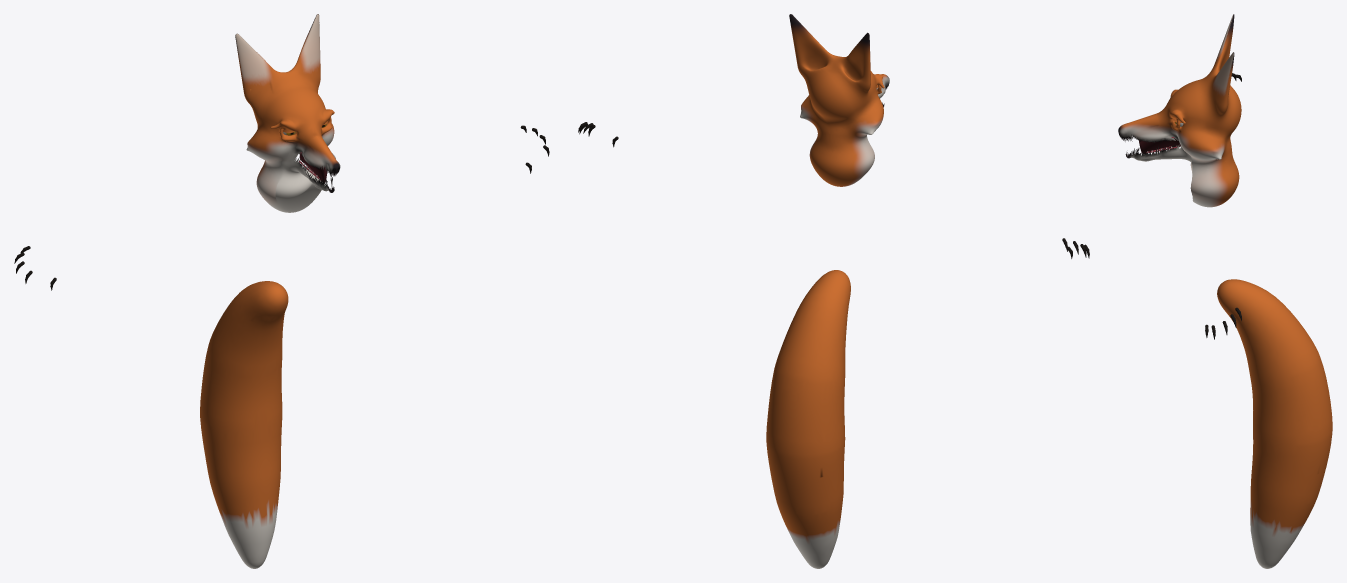
Rendered from female_fox.glb.
3 views of the same model, side by side, from view 1: azimuth 30°, elevation 25°; view 2: azimuth 150°, elevation 25°; view 3: azimuth 270°, elevation 25° (orthographic). The views are drawn at different scales.
Visible parts, largest first — view 1: AnimalTail, AnimalHead; view 2: AnimalTail, AnimalHead; view 3: AnimalTail, AnimalHead.
Part boxes in pixels (left/top/right/bottom): AnimalTail: left=200, top=281, right=288, bottom=568; AnimalHead: left=235, top=14, right=340, bottom=212; AnimalTail: left=766, top=270, right=850, bottom=568; AnimalHead: left=789, top=14, right=889, bottom=186; AnimalTail: left=1217, top=279, right=1332, bottom=568; AnimalHead: left=1118, top=14, right=1241, bottom=207.
Bounding box in the file's own units: 1.59 × 1.59 × 0.5754.
